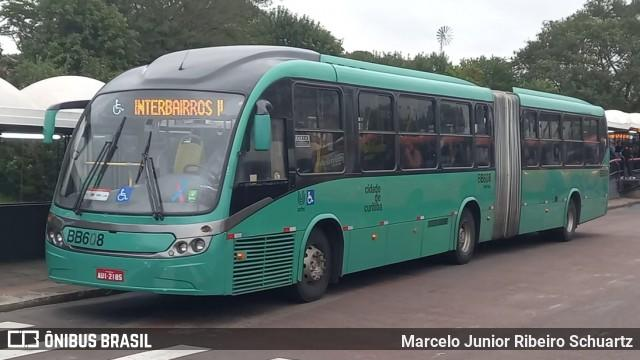INTERBAIRROS II: (131, 96, 226, 119)
